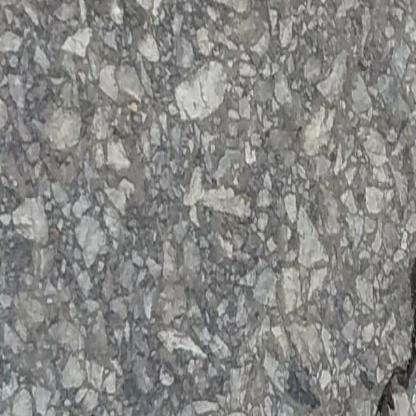Cracks: (373, 236, 416, 416)
